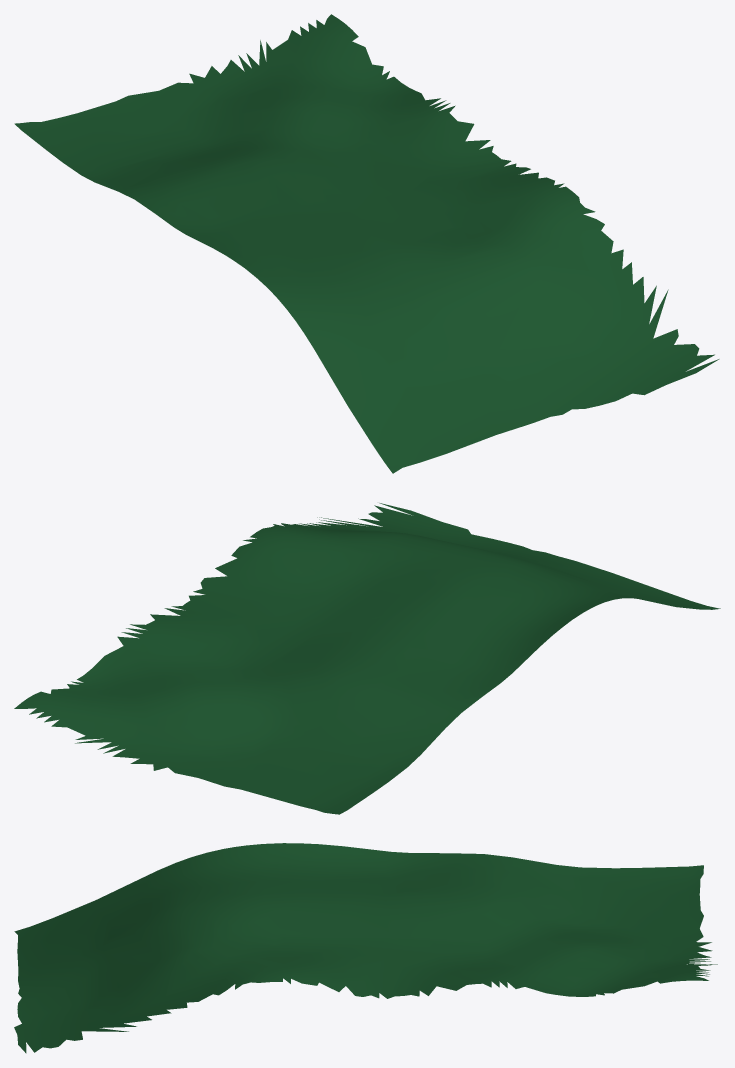
The model's file is payo_land_x4_ym1_lod1.glb.
The picture shows the model from 3 angles, top to bottom: view 1: azimuth 30°, elevation 25°; view 2: azimuth 150°, elevation 25°; view 3: azimuth 270°, elevation 25°; orthographic projection. The views are drawn at different scales.
Visible parts, largest first — view 1: payo_land_x4_ym1; view 2: payo_land_x4_ym1; view 3: payo_land_x4_ym1.
Boxes of the visible parts, left/top/right/bottom form: payo_land_x4_ym1: left=14, top=14, right=719, bottom=473; payo_land_x4_ym1: left=14, top=503, right=720, bottom=814; payo_land_x4_ym1: left=14, top=843, right=717, bottom=1053.
Size of the model in its own units: 134 by 38.48 by 264.
